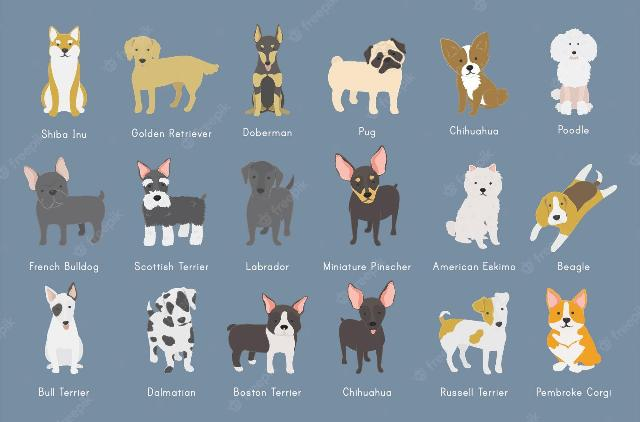dog: (123, 34, 220, 116), (530, 162, 618, 252), (22, 158, 108, 246), (223, 292, 309, 376), (330, 148, 402, 248), (434, 292, 512, 380), (135, 158, 207, 248), (329, 35, 407, 113), (334, 284, 398, 378), (438, 34, 508, 118), (443, 160, 505, 250), (538, 286, 602, 370), (239, 160, 299, 246), (142, 284, 198, 374), (545, 25, 599, 116), (38, 25, 90, 116), (243, 22, 291, 120), (40, 280, 86, 376)
